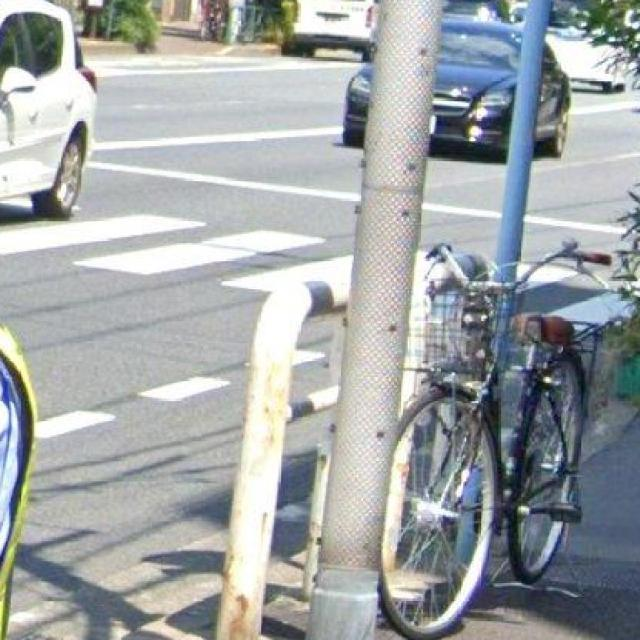bicycle: (380, 244, 595, 640)
